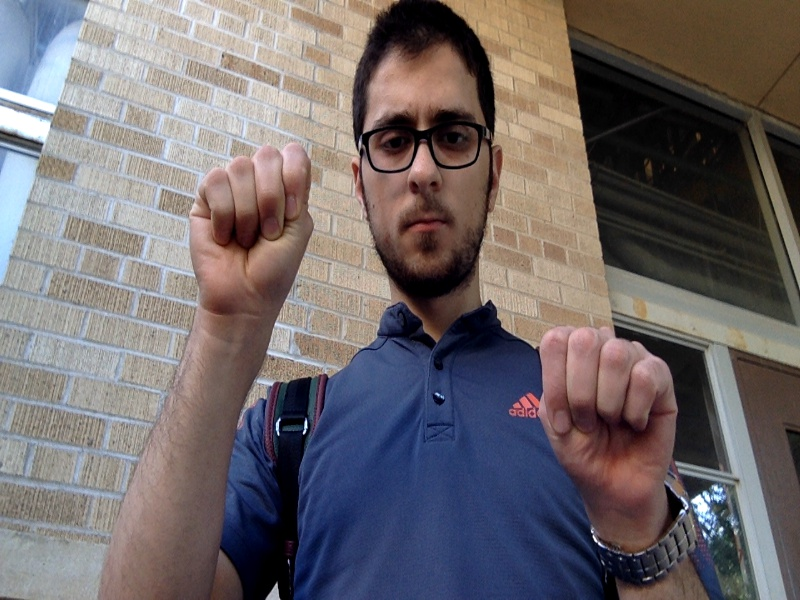0-hand: (537, 326, 674, 524), (189, 145, 314, 323)
